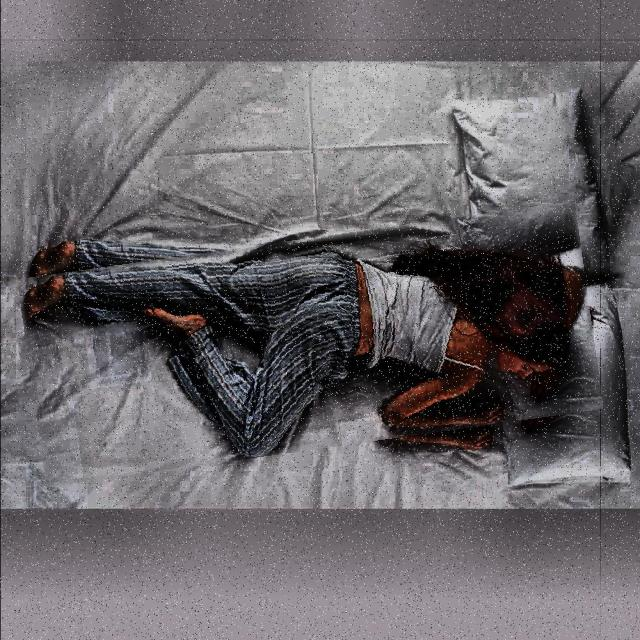Not_Supine: (22, 249, 587, 457)
